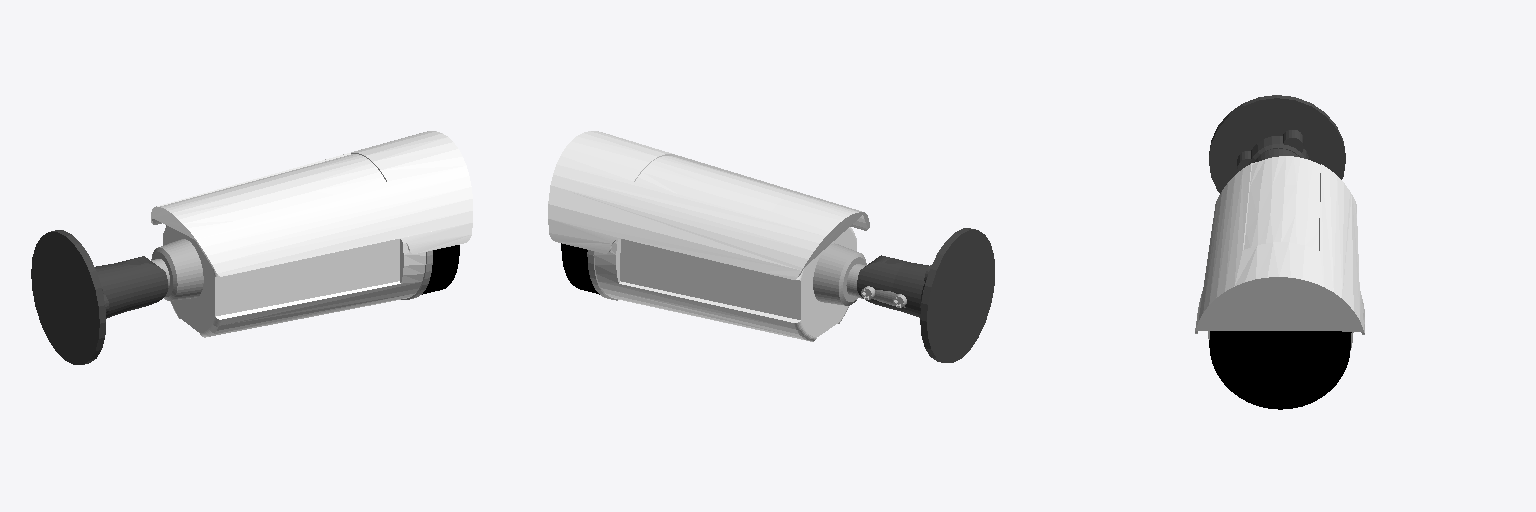
Rendered from camera.obj.
The picture shows the model from 3 angles: view 1: azimuth 30°, elevation 25°; view 2: azimuth 150°, elevation 25°; view 3: azimuth 270°, elevation 25°; orthographic projection.
Parts seen in each view (by area): view 1: Mesh9 Shade Q193X Model, Mesh8 Body Q193X Model, Mesh13 Model, Mesh11 Group8 Group7 Group6 Model, Mesh5 Attach Model, Mesh10 Zoom Q193X Model; view 2: Mesh9 Shade Q193X Model, Mesh8 Body Q193X Model, Mesh13 Model, Mesh5 Attach Model, Mesh11 Group8 Group7 Group6 Model, Mesh10 Zoom Q193X Model; view 3: Mesh9 Shade Q193X Model, Mesh10 Zoom Q193X Model, Mesh13 Model, Mesh12 Group7 Group6 Model.
Boxes of the visible parts, x1,y1,x2,y2 form: Mesh9 Shade Q193X Model: [151, 131, 472, 276]; Mesh8 Body Q193X Model: [163, 225, 425, 337]; Mesh13 Model: [31, 230, 105, 364]; Mesh11 Group8 Group7 Group6 Model: [95, 256, 167, 318]; Mesh5 Attach Model: [151, 239, 203, 300]; Mesh10 Zoom Q193X Model: [422, 245, 459, 294]; Mesh9 Shade Q193X Model: [548, 131, 869, 279]; Mesh8 Body Q193X Model: [594, 227, 856, 341]; Mesh13 Model: [920, 228, 994, 362]; Mesh5 Attach Model: [813, 243, 905, 307]; Mesh11 Group8 Group7 Group6 Model: [857, 255, 928, 317]; Mesh10 Zoom Q193X Model: [561, 243, 599, 294]; Mesh9 Shade Q193X Model: [1195, 156, 1364, 334]; Mesh10 Zoom Q193X Model: [1209, 331, 1351, 409]; Mesh13 Model: [1209, 95, 1345, 193]; Mesh12 Group7 Group6 Model: [1237, 130, 1308, 171].
Size of the model in its own units: 0.5806 by 0.21 by 0.2238.